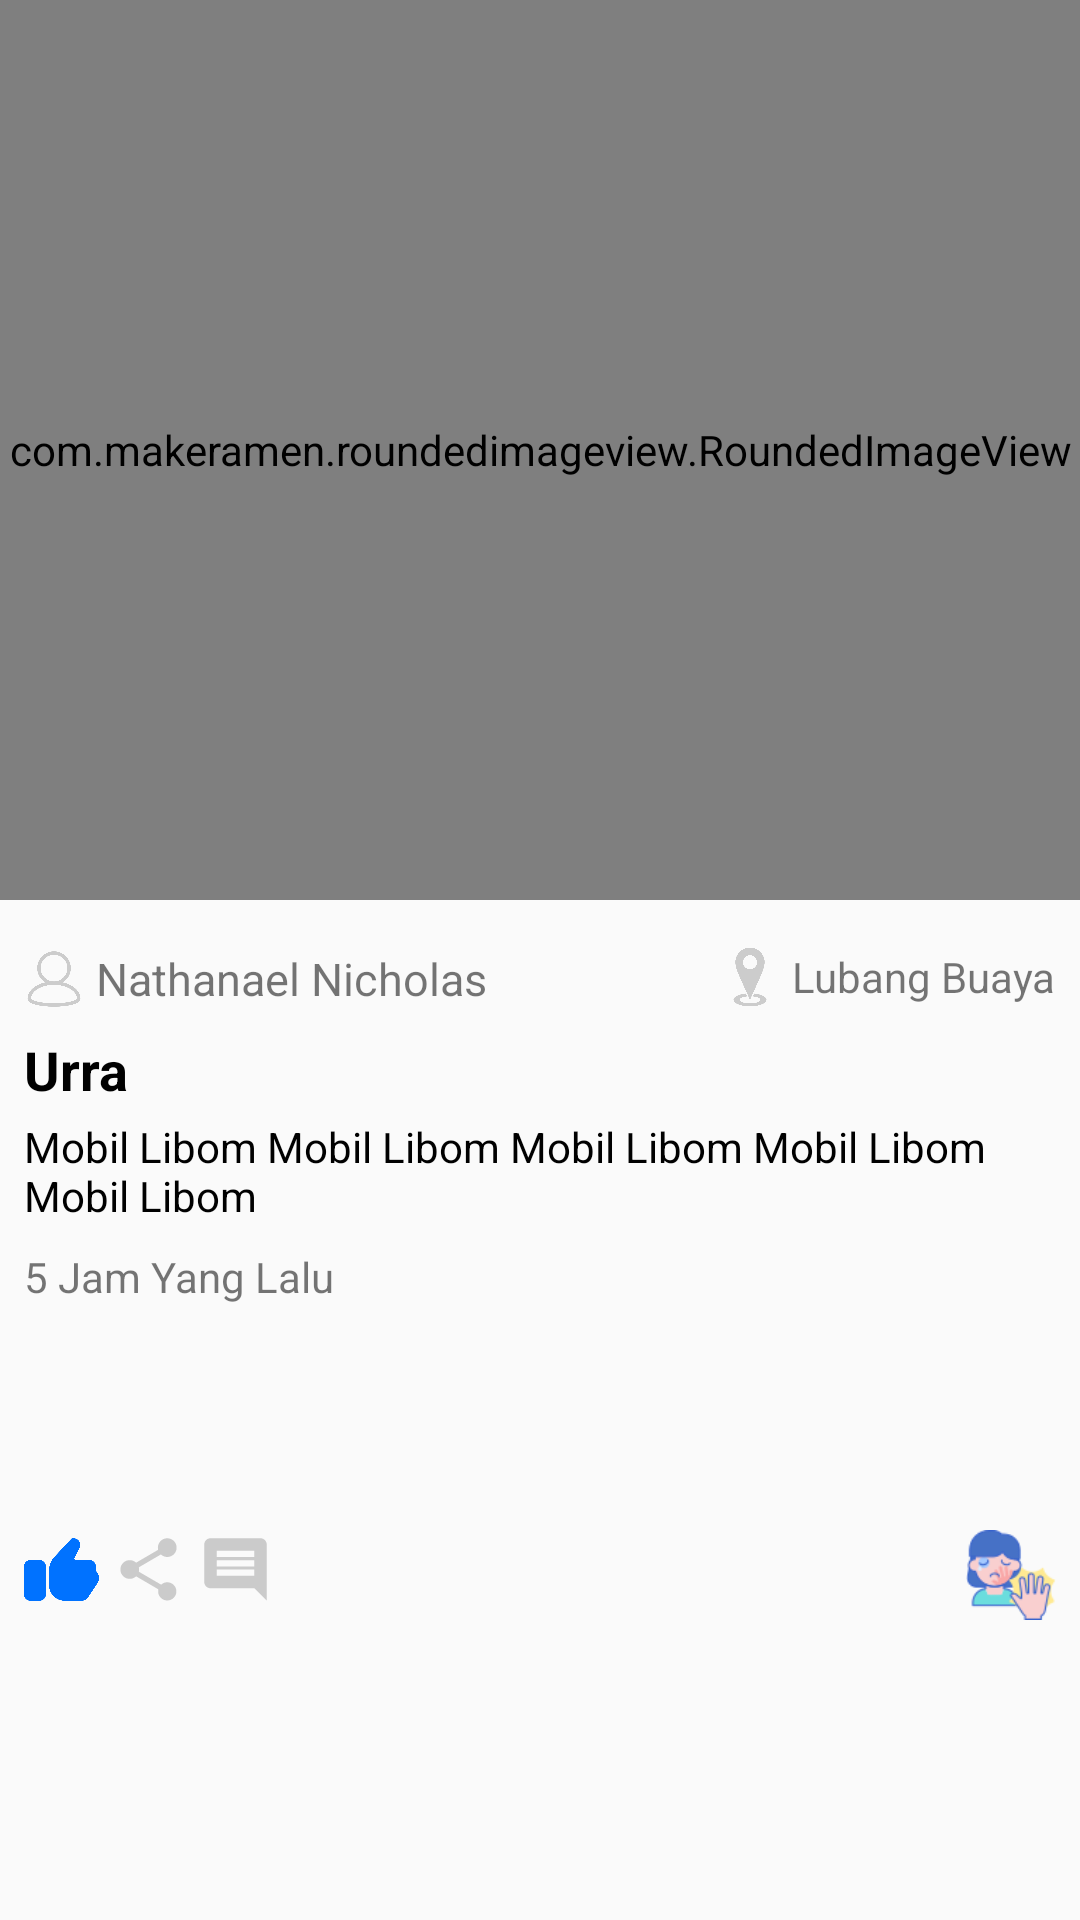

Icon click points for this 1080×1920 phone screenshot, format [x,y]:
comment: [235,1569]
kekerasan: [1010,1575]
liked: [61,1569]
location: [750,977]
person: [54,979]
share: [148,1569]
